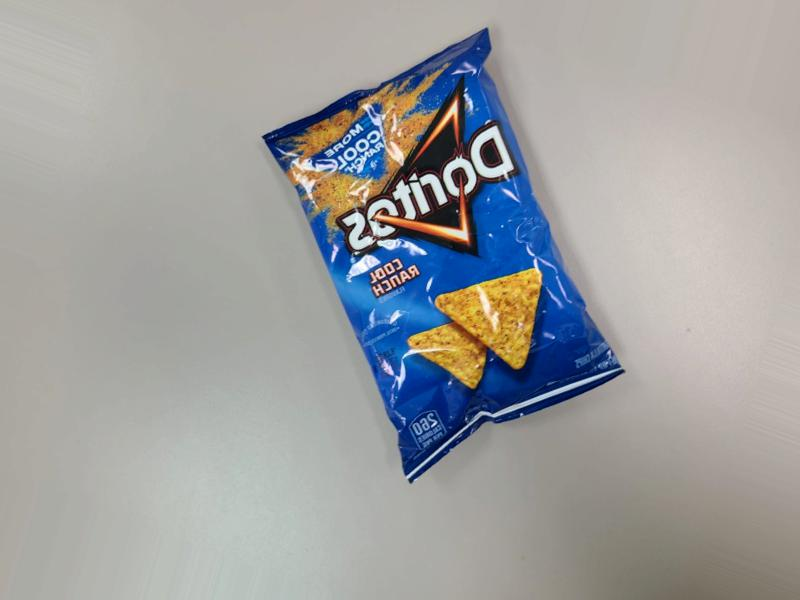doritos: (287, 4, 614, 495)
